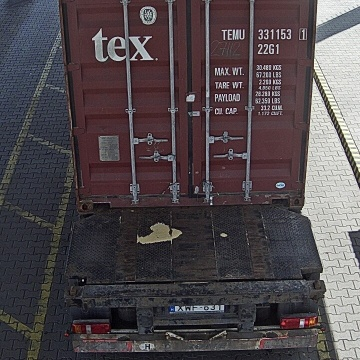serial_id: (222, 28, 307, 39)
